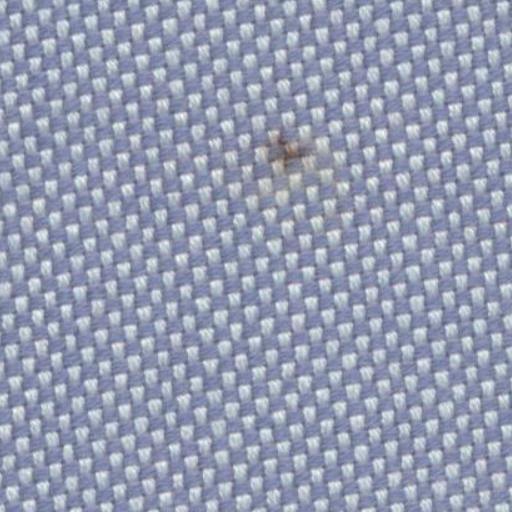WuZi: (252, 110, 350, 218)
